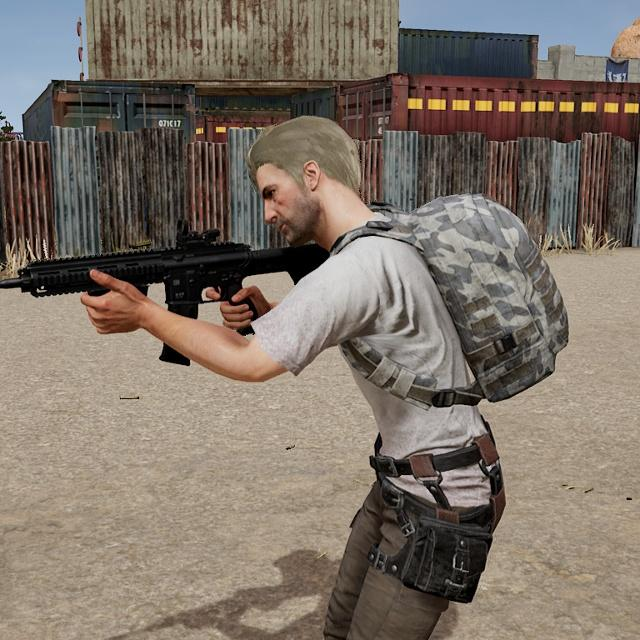head: (240, 107, 371, 255)
people: (196, 108, 521, 640)
